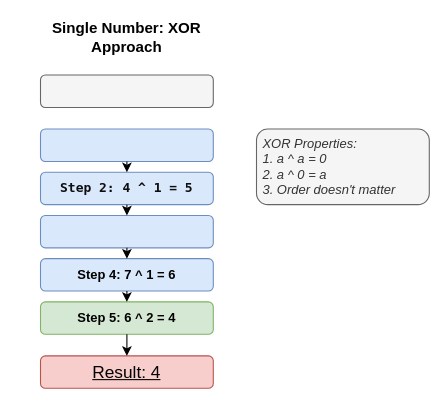
The diagram is 448 pixels wide and 407 high, and some of its shapes have lost their labels. Each missing label, with the centre of its shape:
"Input: [4,1,2,1,2]" goes at [126,90].
"Step 1: 0 ^ 4 = 4" goes at [126,144].
"Step 3: 5 ^ 2 = 7" goes at [126,231].
